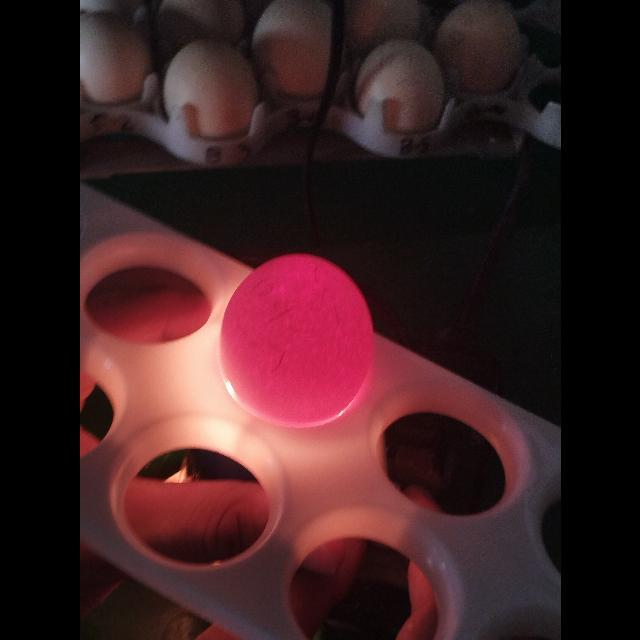Infertile: (220, 250, 378, 420)
